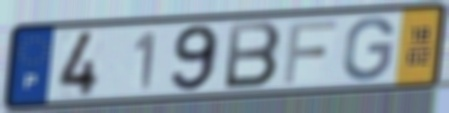1: (132, 30, 157, 92)
4: (55, 28, 102, 99)
9: (168, 23, 223, 94)
B: (221, 19, 284, 92)
F: (281, 18, 339, 86)
G: (341, 14, 398, 83)
